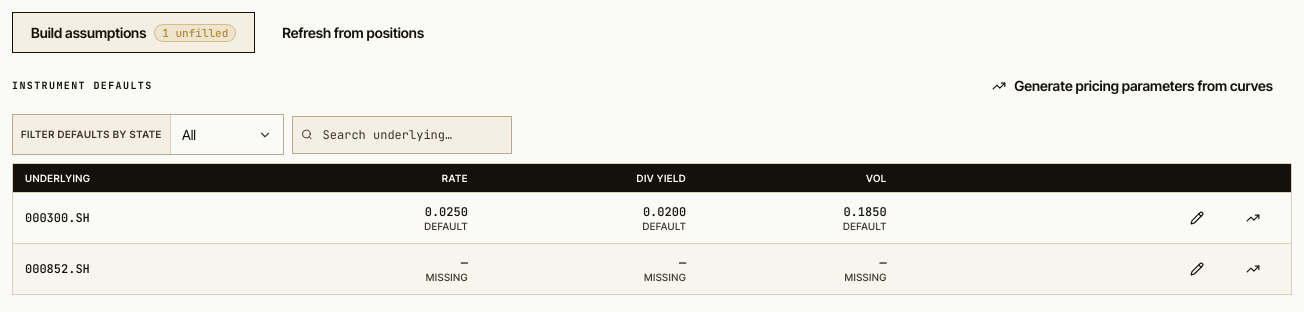
Test: defaults grid filters › STATE=unfilled hides complete rows
Select "unfilled" in the dropdown labelled "Filter defaults by state" at (92, 134), box left=13, top=115, right=171, bottom=154
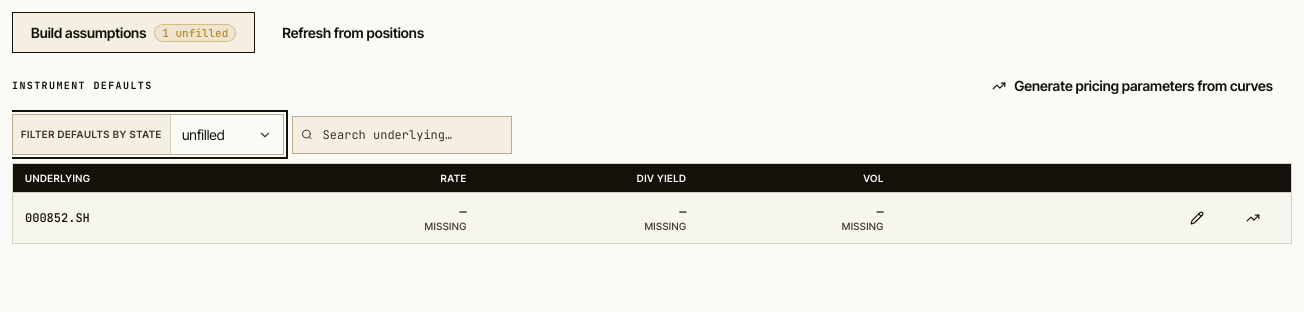
Check: the text "000852.SH" is shown, box left=12, top=192, right=281, bottom=244
Check: the text "000300.SH" is gone
